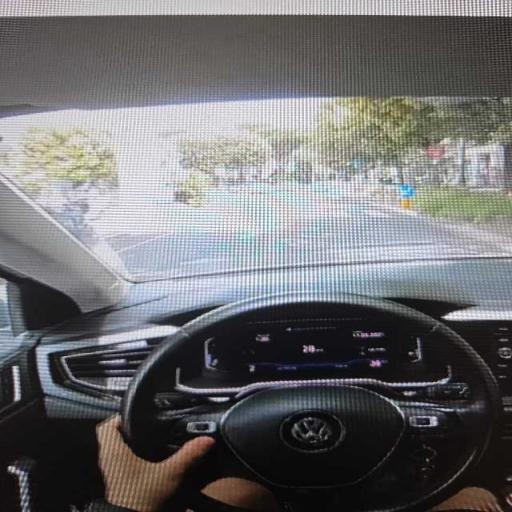car: (0, 2, 511, 511)
lane: (110, 186, 499, 277)
person: (86, 416, 215, 511)
